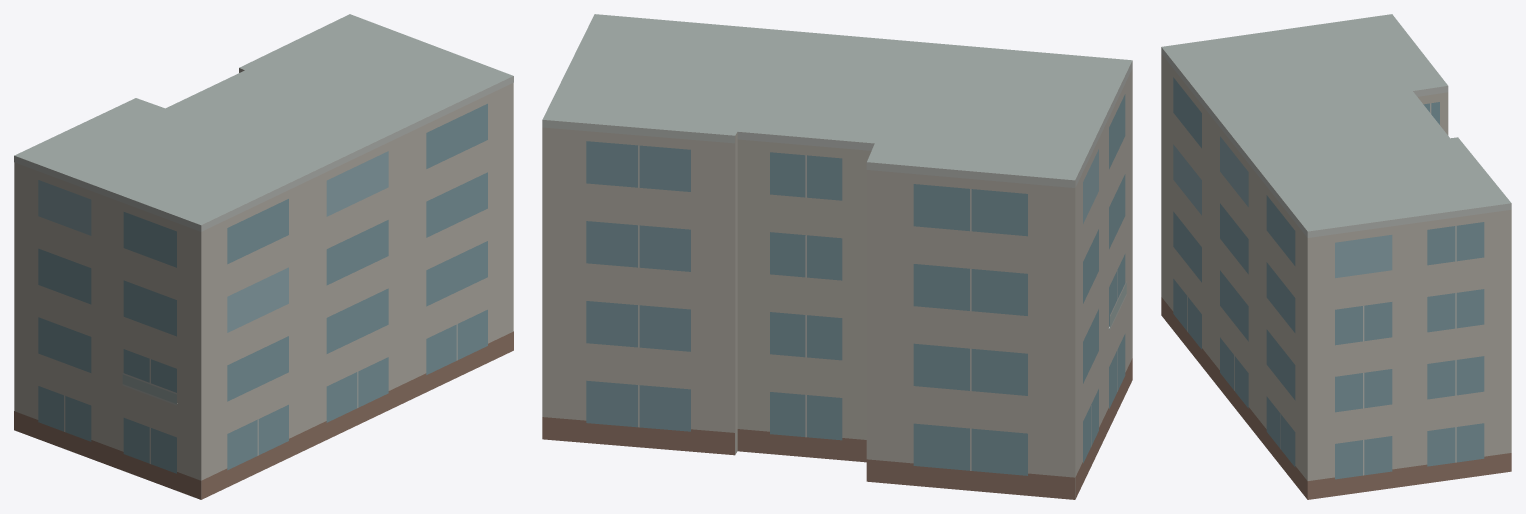
File: survey-upis-32705894.glb
The picture shows the model from 3 angles, left to right: view 1: azimuth 30°, elevation 25°; view 2: azimuth 150°, elevation 25°; view 3: azimuth 270°, elevation 25°; orthographic projection. The views are drawn at different scales.
Parts seen in each view (by area): view 1: survey-upis-32705894.tmp; view 2: survey-upis-32705894.tmp; view 3: survey-upis-32705894.tmp.
Part boxes in pixels (x1,y1,x2,y2): survey-upis-32705894.tmp: (14, 14, 513, 499); survey-upis-32705894.tmp: (542, 14, 1132, 499); survey-upis-32705894.tmp: (1161, 14, 1511, 499).
Bounding box in the file's own units: 17.57 × 10.1 × 11.96.
